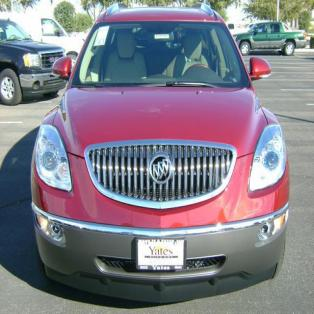Auto: (27, 3, 291, 306)
